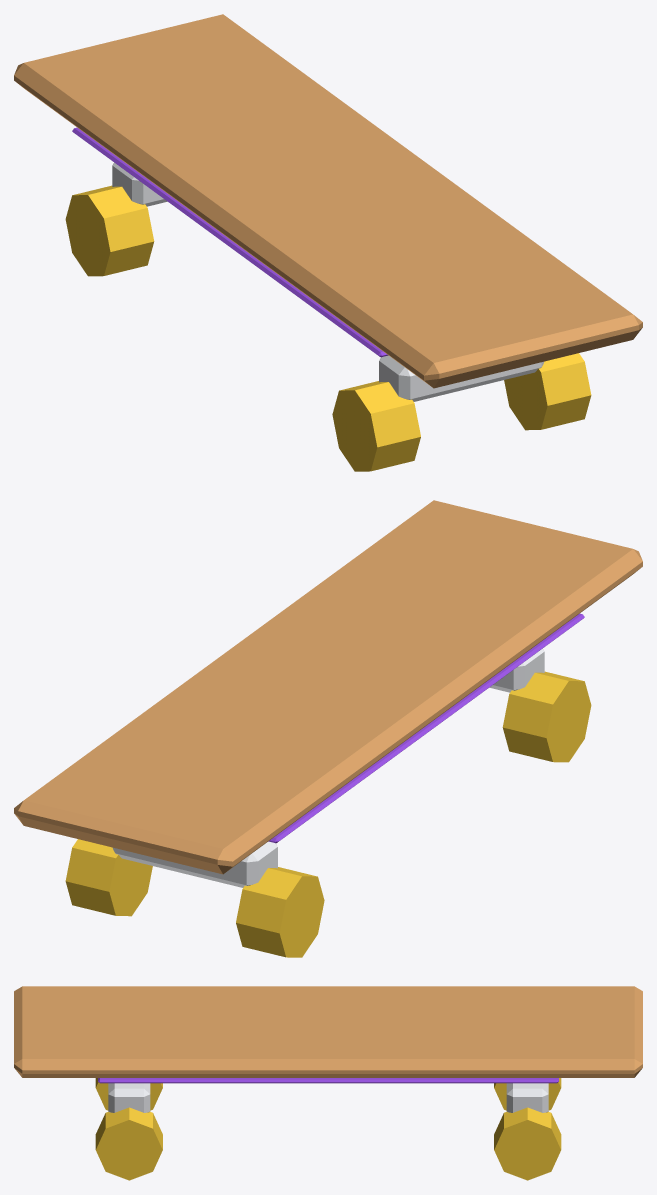
File: Skateboard.fbx
3 views of the same model, one above another, from view 1: azimuth 30°, elevation 25°; view 2: azimuth 150°, elevation 25°; view 3: azimuth 270°, elevation 25° (orthographic). The views are drawn at different scales.
Parts seen in each view (by area): view 1: Skateboard, Skateboard_WheelBR, Skateboard_WheelFR, Skateboard_WheelFL; view 2: Skateboard, Skateboard_WheelFR, Skateboard_WheelBR, Skateboard_WheelBL; view 3: Skateboard, Skateboard_WheelBL, Skateboard_WheelFL, Skateboard_WheelBR, Skateboard_WheelFR.
Boxes of the visible parts, x1,y1,x2,y2 form: Skateboard: [14, 14, 642, 401]; Skateboard_WheelBR: [65, 185, 154, 276]; Skateboard_WheelFR: [332, 381, 420, 471]; Skateboard_WheelFL: [504, 353, 591, 430]; Skateboard: [14, 500, 642, 887]; Skateboard_WheelFR: [502, 671, 591, 762]; Skateboard_WheelBR: [236, 867, 324, 957]; Skateboard_WheelBL: [65, 839, 152, 916]; Skateboard: [14, 986, 642, 1112]; Skateboard_WheelBL: [494, 1107, 561, 1180]; Skateboard_WheelFL: [95, 1107, 162, 1180]; Skateboard_WheelBR: [494, 1078, 561, 1110]; Skateboard_WheelFR: [95, 1078, 162, 1110].
Size of the model in its own units: 0.9 by 0.626 by 3.
1 material, 1 textured.
